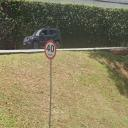speed_limit_40: (45, 40, 56, 60)
